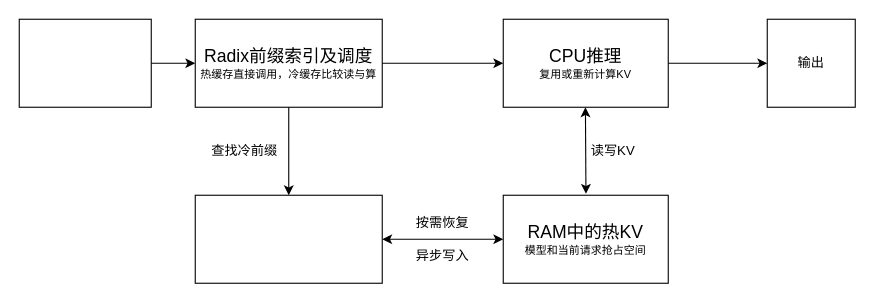
Some shapes in this 875 by 303 pixel diagram are drawn without their labels. Here are the shapes that lost their labels. From the top down, the centre of each, then its label:
point (84, 62): 再次提问内容 同一提示词和手册
point (288, 238): 本地存储中的冷KV 只有有价值的历史KV前缀会被写入
